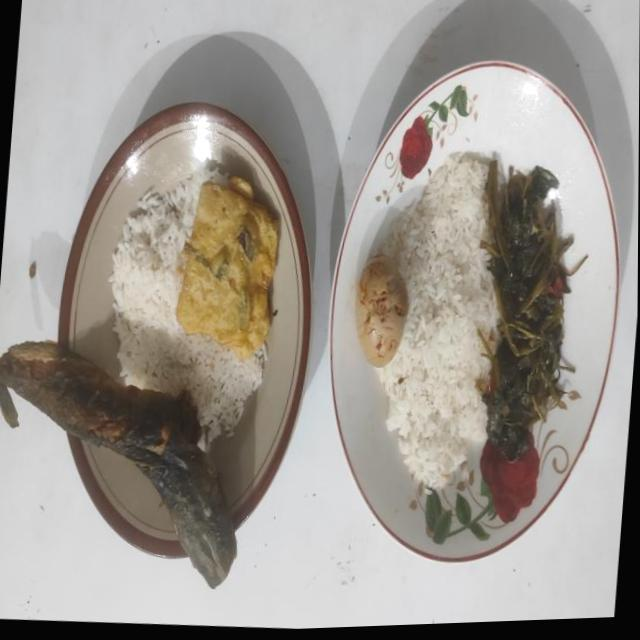nasi_putih: (109, 170, 268, 441), (376, 152, 498, 488)
tumis_kangkung: (482, 160, 586, 461)
